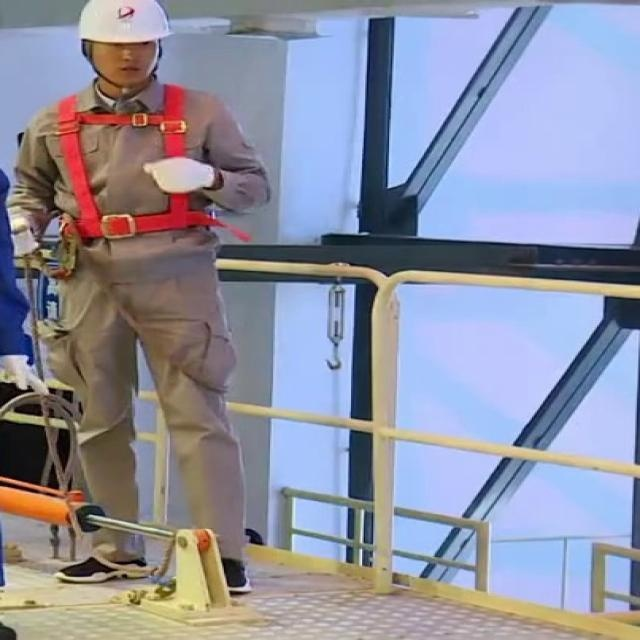Arnes_seguridad: (46, 77, 207, 247)
